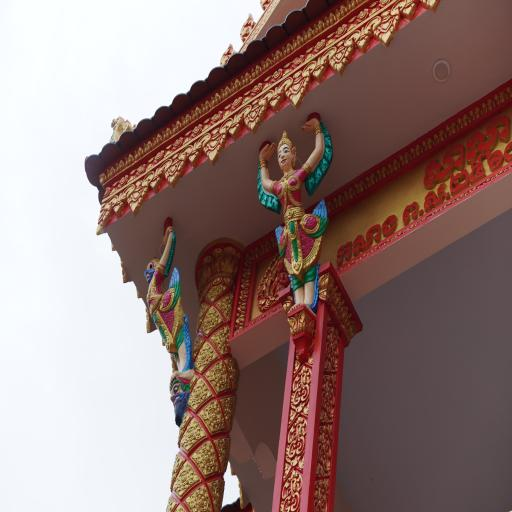hoa: (190, 439, 218, 478), (171, 459, 200, 495), (180, 415, 205, 453), (202, 396, 226, 434), (182, 484, 214, 512), (206, 356, 229, 394), (213, 432, 233, 474), (224, 352, 245, 390), (198, 306, 223, 336), (220, 391, 240, 428), (193, 340, 216, 372), (186, 378, 211, 407), (208, 476, 227, 512), (212, 323, 232, 357), (217, 293, 237, 322), (290, 52, 306, 70), (229, 96, 246, 111), (188, 122, 202, 140), (163, 493, 176, 512), (271, 66, 284, 84), (152, 150, 166, 165), (171, 136, 184, 152), (209, 110, 223, 124), (333, 23, 347, 37), (116, 173, 129, 187), (355, 8, 367, 23), (135, 164, 147, 178), (248, 82, 260, 96), (314, 39, 323, 51), (377, 0, 389, 8)
la: (321, 33, 363, 80), (155, 143, 194, 188), (362, 6, 402, 46), (285, 363, 312, 422), (120, 171, 156, 215), (193, 124, 229, 166), (282, 64, 314, 111), (283, 415, 307, 475), (238, 89, 270, 132), (317, 372, 338, 430), (278, 466, 304, 512), (315, 421, 334, 483), (322, 323, 342, 377), (96, 192, 117, 237), (310, 479, 331, 512)
than: (251, 112, 346, 334), (122, 215, 209, 418)
